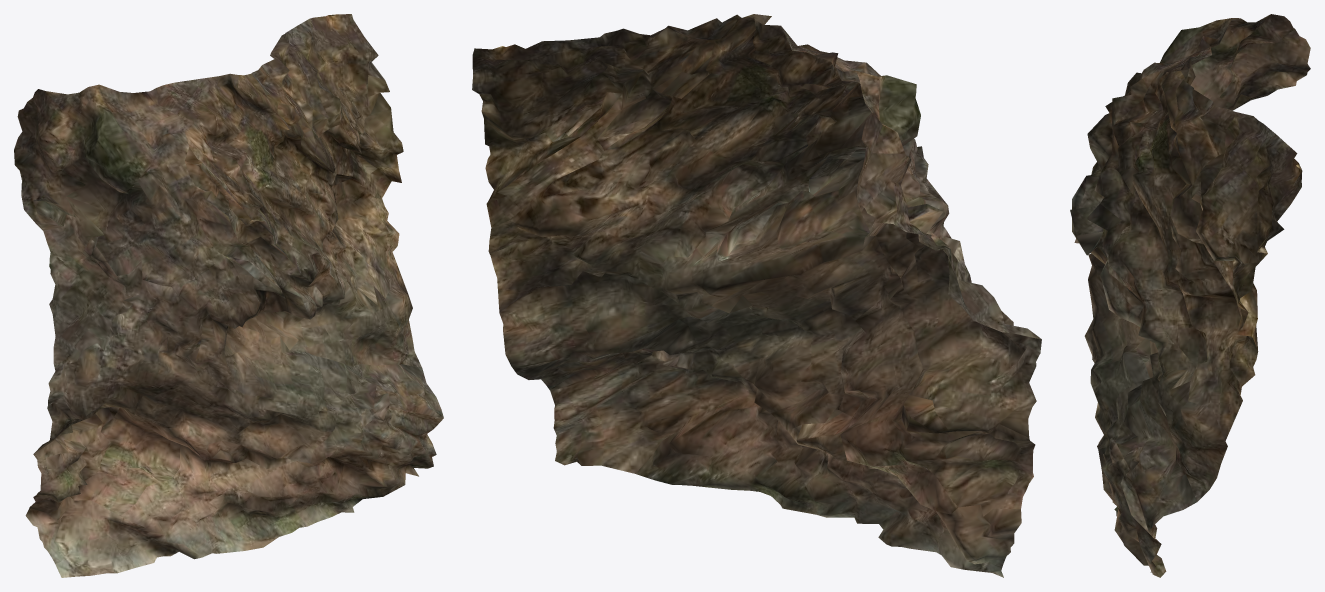
3 renders of one model, left to right at view 1: azimuth 30°, elevation 25°; view 2: azimuth 150°, elevation 25°; view 3: azimuth 270°, elevation 25°, orthographic. The views are drawn at different scales.
Visible parts, largest first — view 1: mountainside; view 2: mountainside; view 3: mountainside.
Boxes of the visible parts, x1,y1,x2,y2 form: mountainside: [14, 14, 443, 577]; mountainside: [472, 14, 1041, 577]; mountainside: [1070, 14, 1310, 577].
Bounding box in the file's own units: 10.21 × 10.51 × 5.24.
1 material, 1 textured.
